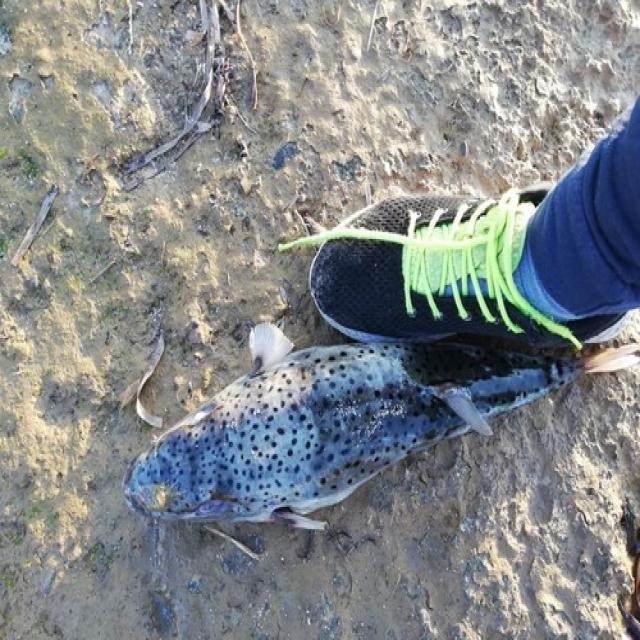Balik: (125, 326, 639, 529)
